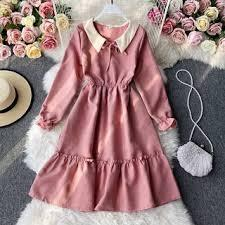dress: (32, 16, 179, 212)
